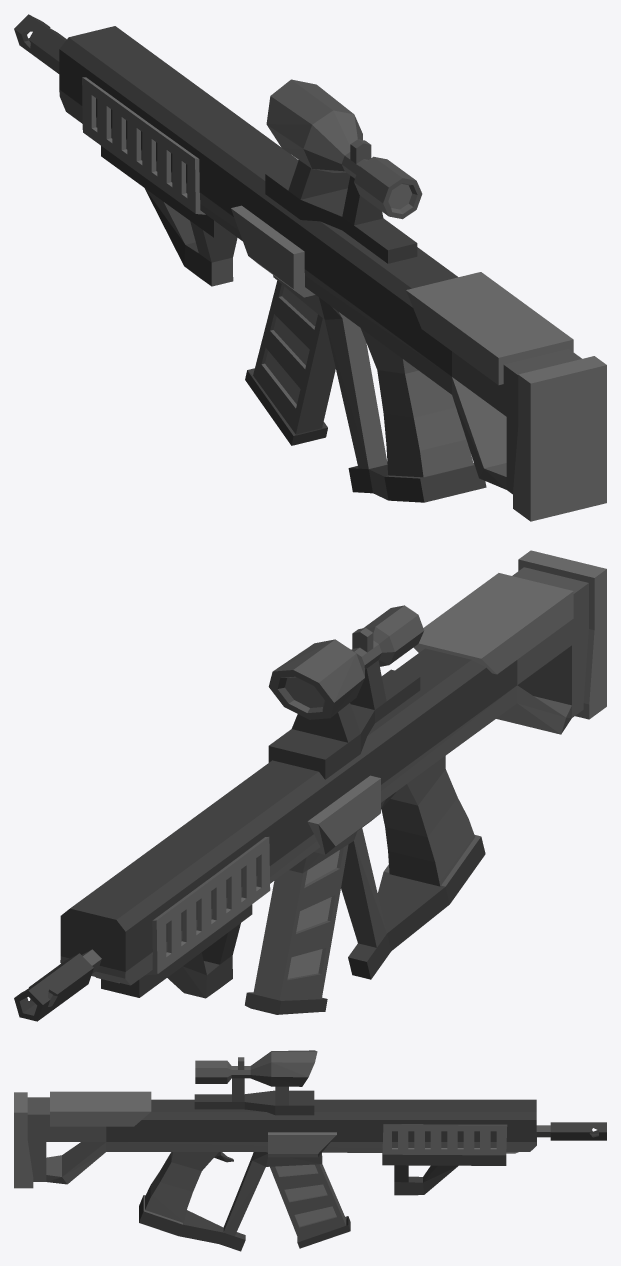
Rendered from fusil_6.glb.
The picture shows the model from 3 angles, top to bottom: view 1: azimuth 30°, elevation 25°; view 2: azimuth 150°, elevation 25°; view 3: azimuth 270°, elevation 25°; orthographic projection. The views are drawn at different scales.
Parts seen in each view (by area): view 1: fusil_6, fusil_scope_6, fusil_charguer_6; view 2: fusil_6, fusil_scope_6, fusil_charguer_6; view 3: fusil_6, fusil_scope_6, fusil_charguer_6.
Boxes of the visible parts, box(x1,y1,x2,y2) form: fusil_6: box(14, 14, 606, 521); fusil_scope_6: box(265, 79, 422, 263); fusil_charguer_6: box(245, 281, 335, 445); fusil_6: box(14, 550, 606, 1021); fusil_scope_6: box(268, 605, 424, 779); fusil_charguer_6: box(245, 844, 348, 1014); fusil_6: box(14, 1091, 606, 1251); fusil_scope_6: box(194, 1050, 317, 1115); fusil_charguer_6: box(270, 1164, 350, 1248).
Size of the model in its own units: 0.2999 by 1.21 by 3.3.
Materials: 1 (1 with a texture image).
